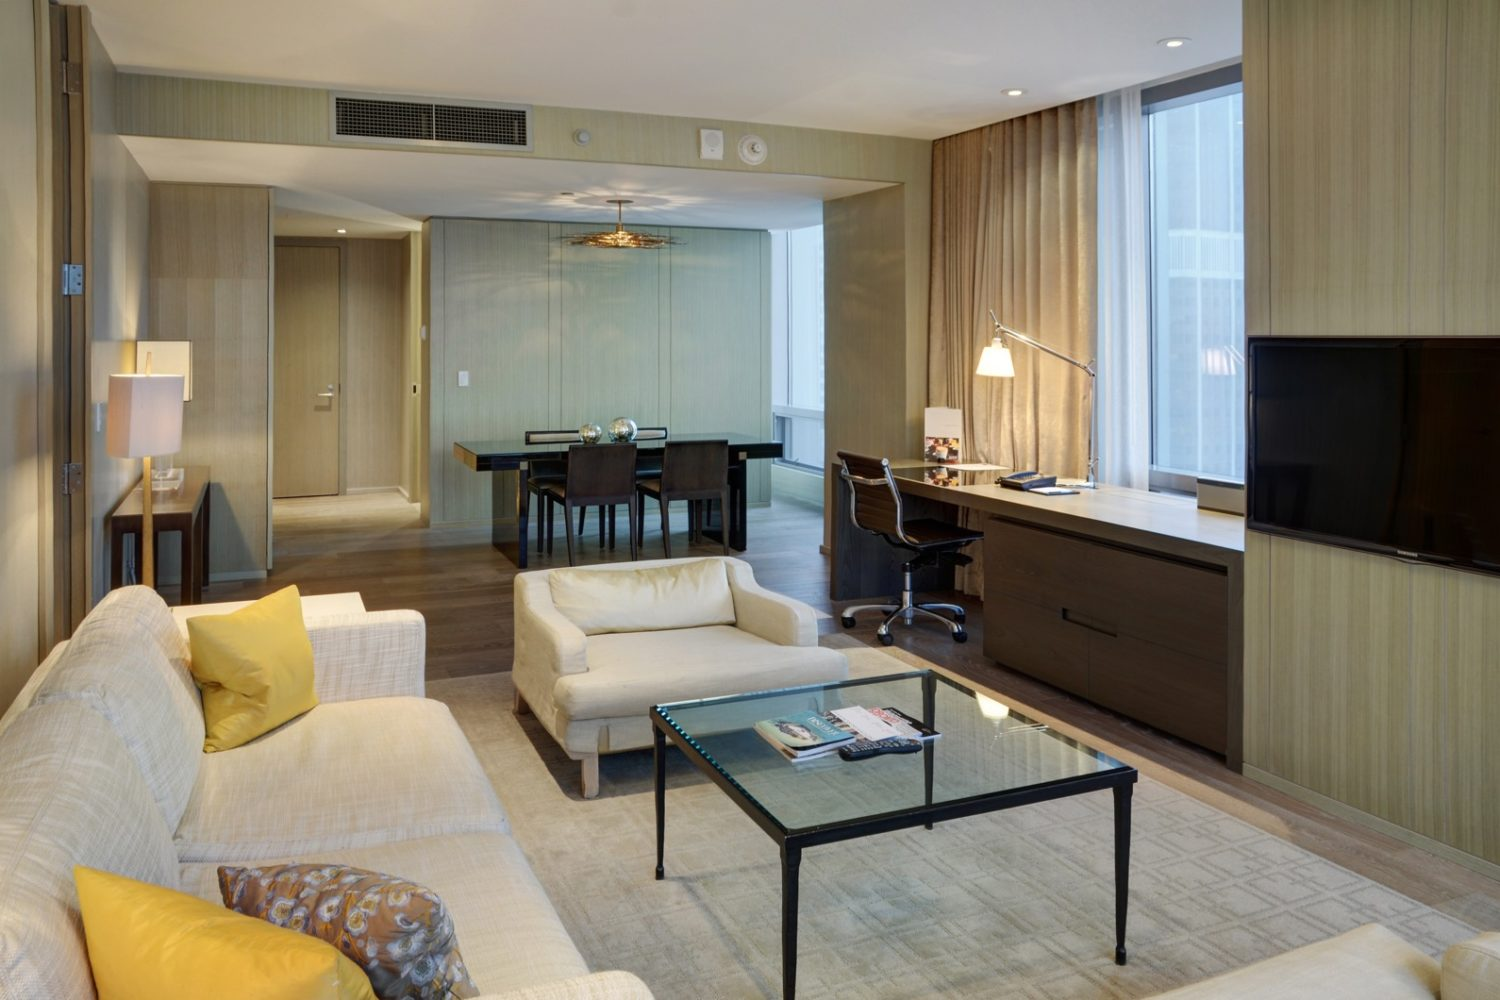chair: (7, 577, 657, 1000), (519, 555, 823, 763), (531, 443, 643, 551), (640, 440, 732, 561)
